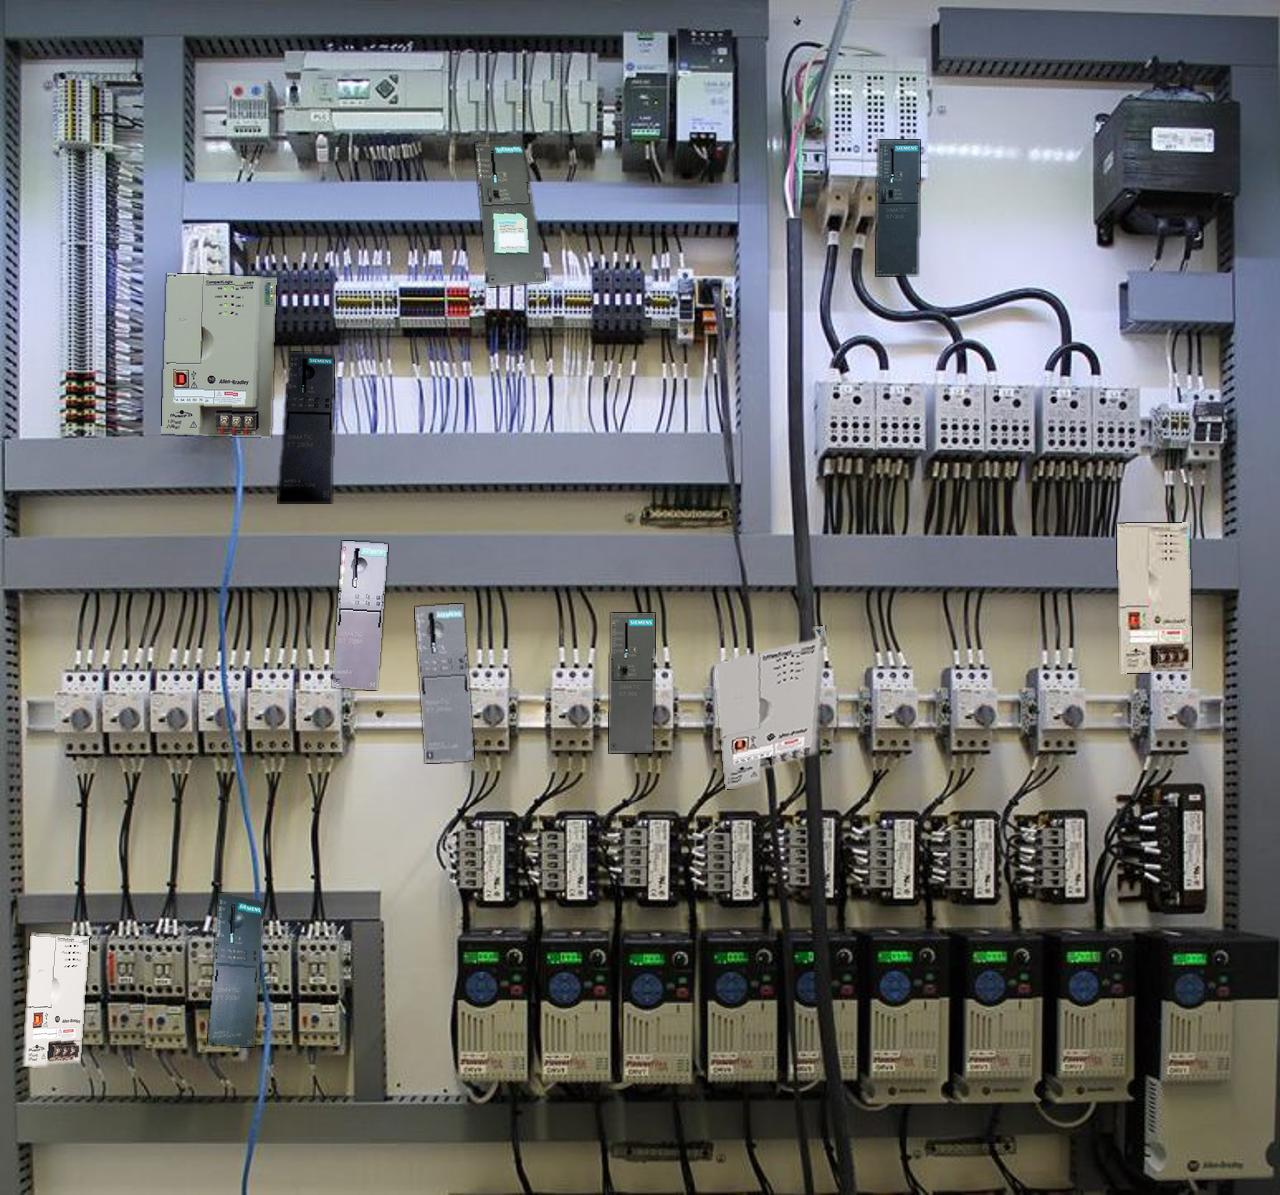AllenBradley: (161, 273, 276, 436), (715, 624, 824, 790), (1117, 522, 1191, 673), (22, 934, 89, 1066)
Siemens: (475, 142, 543, 286), (609, 613, 653, 752), (876, 140, 918, 275)
